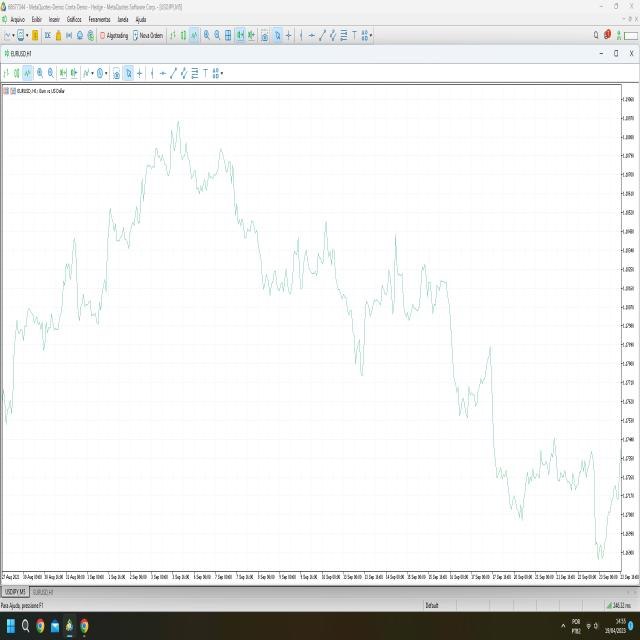bandeira_alta: (7, 299, 56, 431), (100, 201, 130, 331)
bandeira_baixa: (439, 268, 485, 422), (252, 208, 294, 303)
